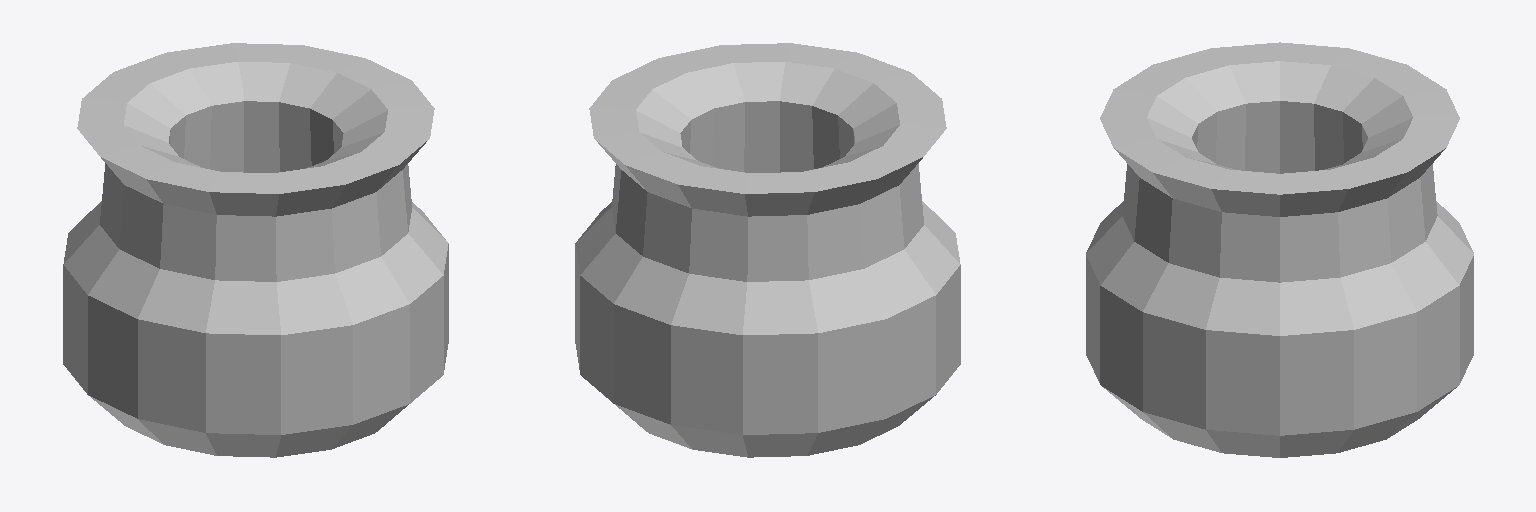
Rendered from Artifact2.obj.
3 views of the same model, side by side, from view 1: azimuth 30°, elevation 25°; view 2: azimuth 150°, elevation 25°; view 3: azimuth 270°, elevation 25° (orthographic).
Parts seen in each view (by area): view 1: Artifact.001_Cylinder.002; view 2: Artifact.001_Cylinder.002; view 3: Artifact.001_Cylinder.002.
Part boxes in pixels (bbox=[...]): Artifact.001_Cylinder.002: bbox=[63, 43, 448, 457]; Artifact.001_Cylinder.002: bbox=[575, 43, 960, 457]; Artifact.001_Cylinder.002: bbox=[1086, 42, 1473, 457].
Bounding box in the file's own units: 1.77 × 1.39 × 1.77.